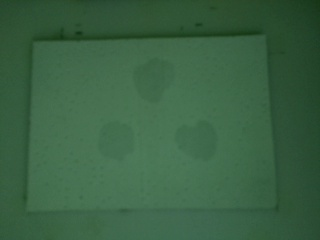Water_detected: (96, 127, 138, 166), (181, 124, 219, 163), (126, 60, 167, 96)
